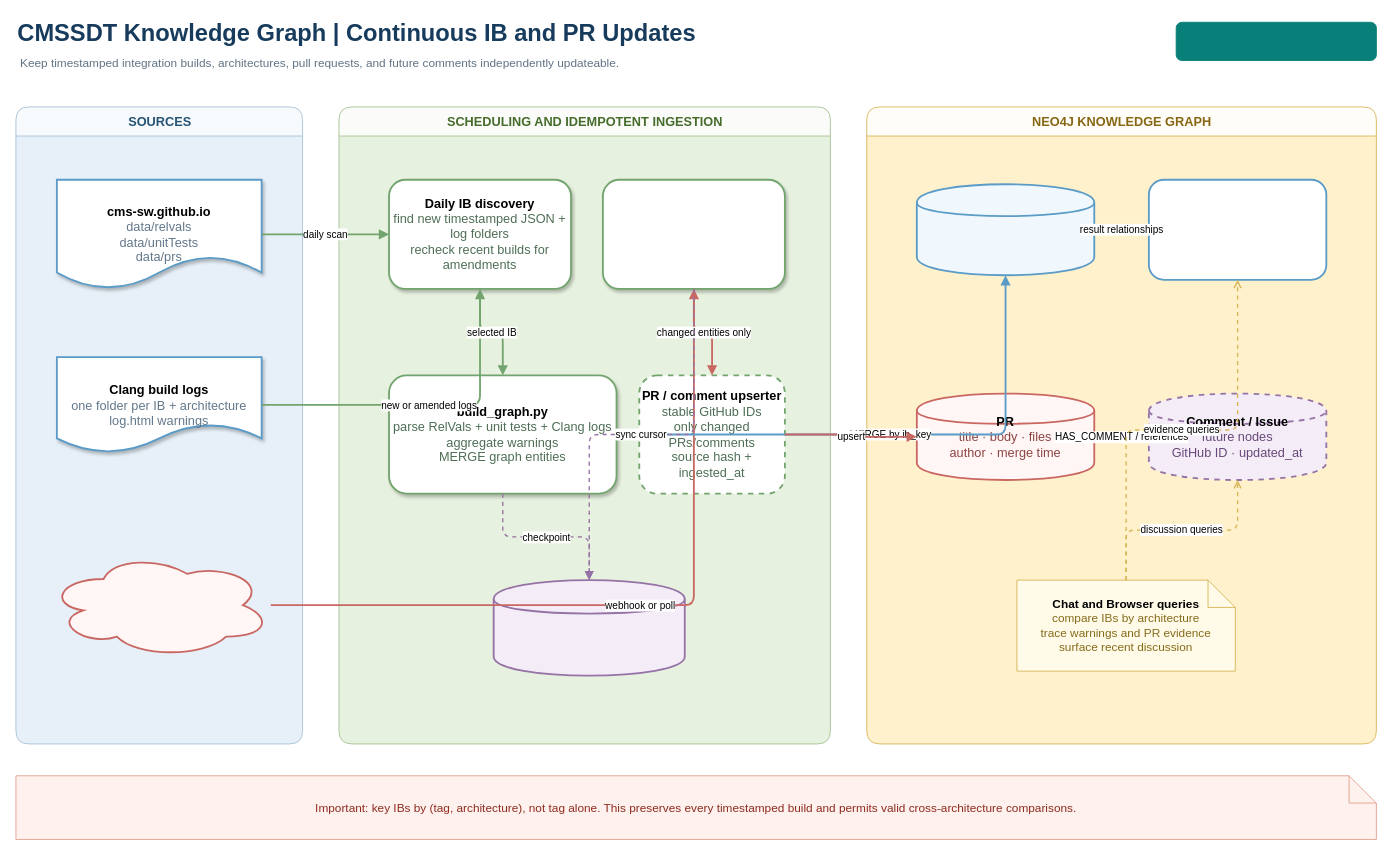
Some shapes in this 1392 by 855 pixel diagram are drawn without their labels. Here are the shapes that lost their labels. From the top down, the centre of each, then its label:
point (1275, 41): CURRENT + PROPOSED FLOW
point (694, 235): Hourly PR sync webhook preferred or updated_at + ETag polling
point (1005, 229): IB ib_key = tag : arch tag · architecture · release
point (1237, 229): Build results RelVal · UnitTest Warning · Package SourceFile · Checker
point (158, 604): GitHub API / webhook PR updates future issue + comment events
point (588, 627): Ingestion state source hash last successful sync recent-build window
